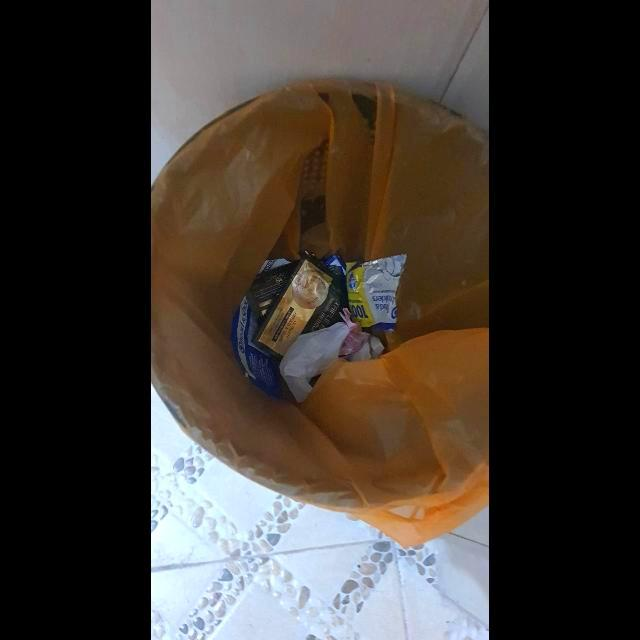paper: (279, 322, 351, 404)
plastic_sachet: (259, 260, 344, 356), (231, 298, 293, 405), (345, 254, 408, 330), (246, 262, 299, 326)
